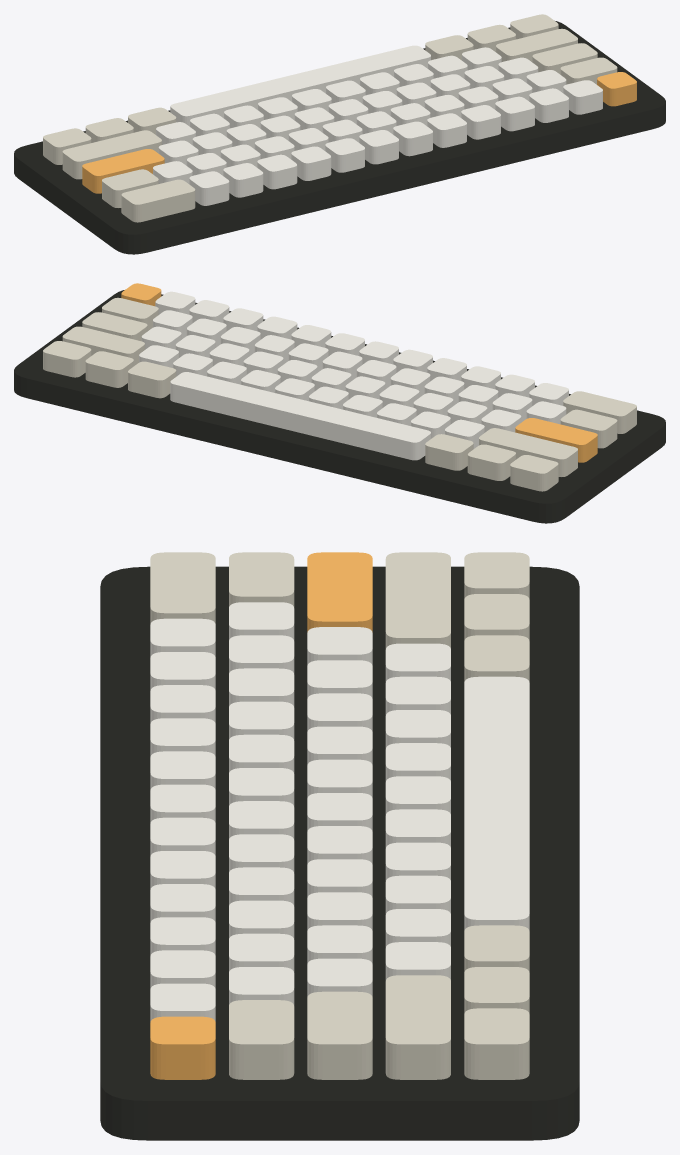
Rendered from keyboard.glb.
3 views of the same model, one above another, from view 1: azimuth 30°, elevation 25°; view 2: azimuth 150°, elevation 25°; view 3: azimuth 270°, elevation 25° (orthographic). The views are drawn at different scales.
Visible parts, largest first — view 1: Keyboard case, Space, Backspace, ShiftRight, Enter, ShiftLeft, Backslash, CapsLock, Equal, Digit0, Digit9, Minus (+49 smaller); view 2: Keyboard case, Space, ShiftRight, Enter, Backspace, ShiftLeft, ControlRight, AltRight, MetaRight, AltLeft, MetaLeft, ControlLeft (+49 smaller); view 3: Keyboard case, Space, ShiftLeft, ShiftRight, CapsLock, Tab, Enter, ControlLeft, Backspace, Backquote, Backslash, AltRight (+49 smaller).
Boxes of the visible parts, x1=… form: Keyboard case: x1=14, y1=21, x2=665, y2=254; Space: x1=170, y1=45, x2=430, y2=126; Backspace: x1=121, y1=179, x2=195, y2=222; ShiftRight: x1=62, y1=130, x2=161, y2=179; Enter: x1=82, y1=149, x2=164, y2=193; ShiftLeft: x1=496, y1=28, x2=577, y2=61; Backslash: x1=102, y1=169, x2=158, y2=207; CapsLock: x1=532, y1=43, x2=597, y2=74; Equal: x1=189, y1=171, x2=229, y2=205; Digit0: x1=257, y1=154, x2=297, y2=189; Digit9: x1=291, y1=146, x2=331, y2=180; Minus: x1=223, y1=163, x2=263, y2=197; Keyboard case: x1=14, y1=290, x2=665, y2=523; Space: x1=170, y1=372, x2=430, y2=460; ShiftRight: x1=479, y1=428, x2=577, y2=476; Enter: x1=515, y1=418, x2=597, y2=462; Backspace: x1=563, y1=391, x2=636, y2=433; ShiftLeft: x1=62, y1=326, x2=144, y2=365; ControlRight: x1=510, y1=455, x2=558, y2=491; AltRight: x1=467, y1=444, x2=515, y2=480; MetaRight: x1=425, y1=434, x2=473, y2=470; AltLeft: x1=85, y1=351, x2=133, y2=387; MetaLeft: x1=128, y1=361, x2=176, y2=398; ControlLeft: x1=43, y1=341, x2=91, y2=377; Keyboard case: x1=100, y1=566, x2=579, y2=1140; Space: x1=464, y1=676, x2=529, y2=930; ShiftLeft: x1=385, y1=975, x2=450, y2=1079; ShiftRight: x1=385, y1=552, x2=450, y2=649; CapsLock: x1=307, y1=991, x2=372, y2=1079; Tab: x1=229, y1=1000, x2=294, y2=1079; Enter: x1=307, y1=552, x2=372, y2=632; ControlLeft: x1=464, y1=1008, x2=529, y2=1079; Backspace: x1=150, y1=552, x2=215, y2=624; Backquote: x1=150, y1=1016, x2=215, y2=1079; Backslash: x1=229, y1=552, x2=294, y2=607; AltRight: x1=464, y1=594, x2=529, y2=640.
Size of the model in its own units: 2.9 by 0.19 by 1.1.
